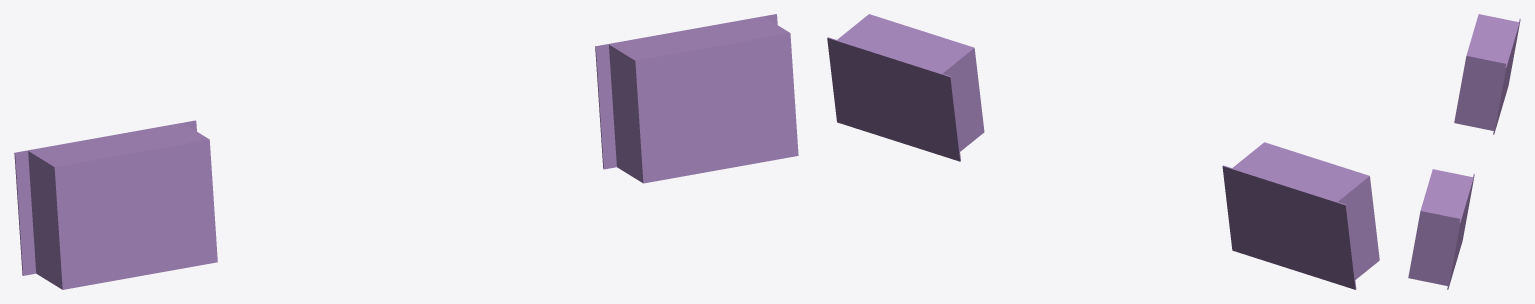
Rendered from POWER ARCHITECTURE__ELEC BOARD COMPONENTS__ELCON HK-J 6.6KW charger.glb.
3 views of the same model, side by side, from view 1: azimuth 30°, elevation 25°; view 2: azimuth 150°, elevation 25°; view 3: azimuth 270°, elevation 25° (orthographic). The views are drawn at different scales.
Parts seen in each view (by area): view 1: ELCON HK-J 6.6KW charger; view 2: ELCON HK-J 6.6KW charger; view 3: ELCON HK-J 6.6KW charger.
Boxes of the visible parts, x1,y1,x2,y2 form: ELCON HK-J 6.6KW charger: [14, 14, 798, 289]; ELCON HK-J 6.6KW charger: [827, 14, 1379, 289]; ELCON HK-J 6.6KW charger: [1408, 14, 1520, 289].
Size of the model in its own units: 1.48 by 0.2528 by 0.3411.
